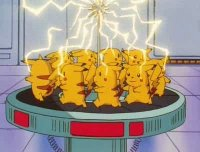pikachu: (20, 55, 56, 102), (57, 61, 89, 108), (92, 64, 125, 109), (122, 63, 156, 104), (123, 46, 151, 63), (97, 47, 125, 64), (71, 49, 98, 64), (48, 49, 72, 64)
